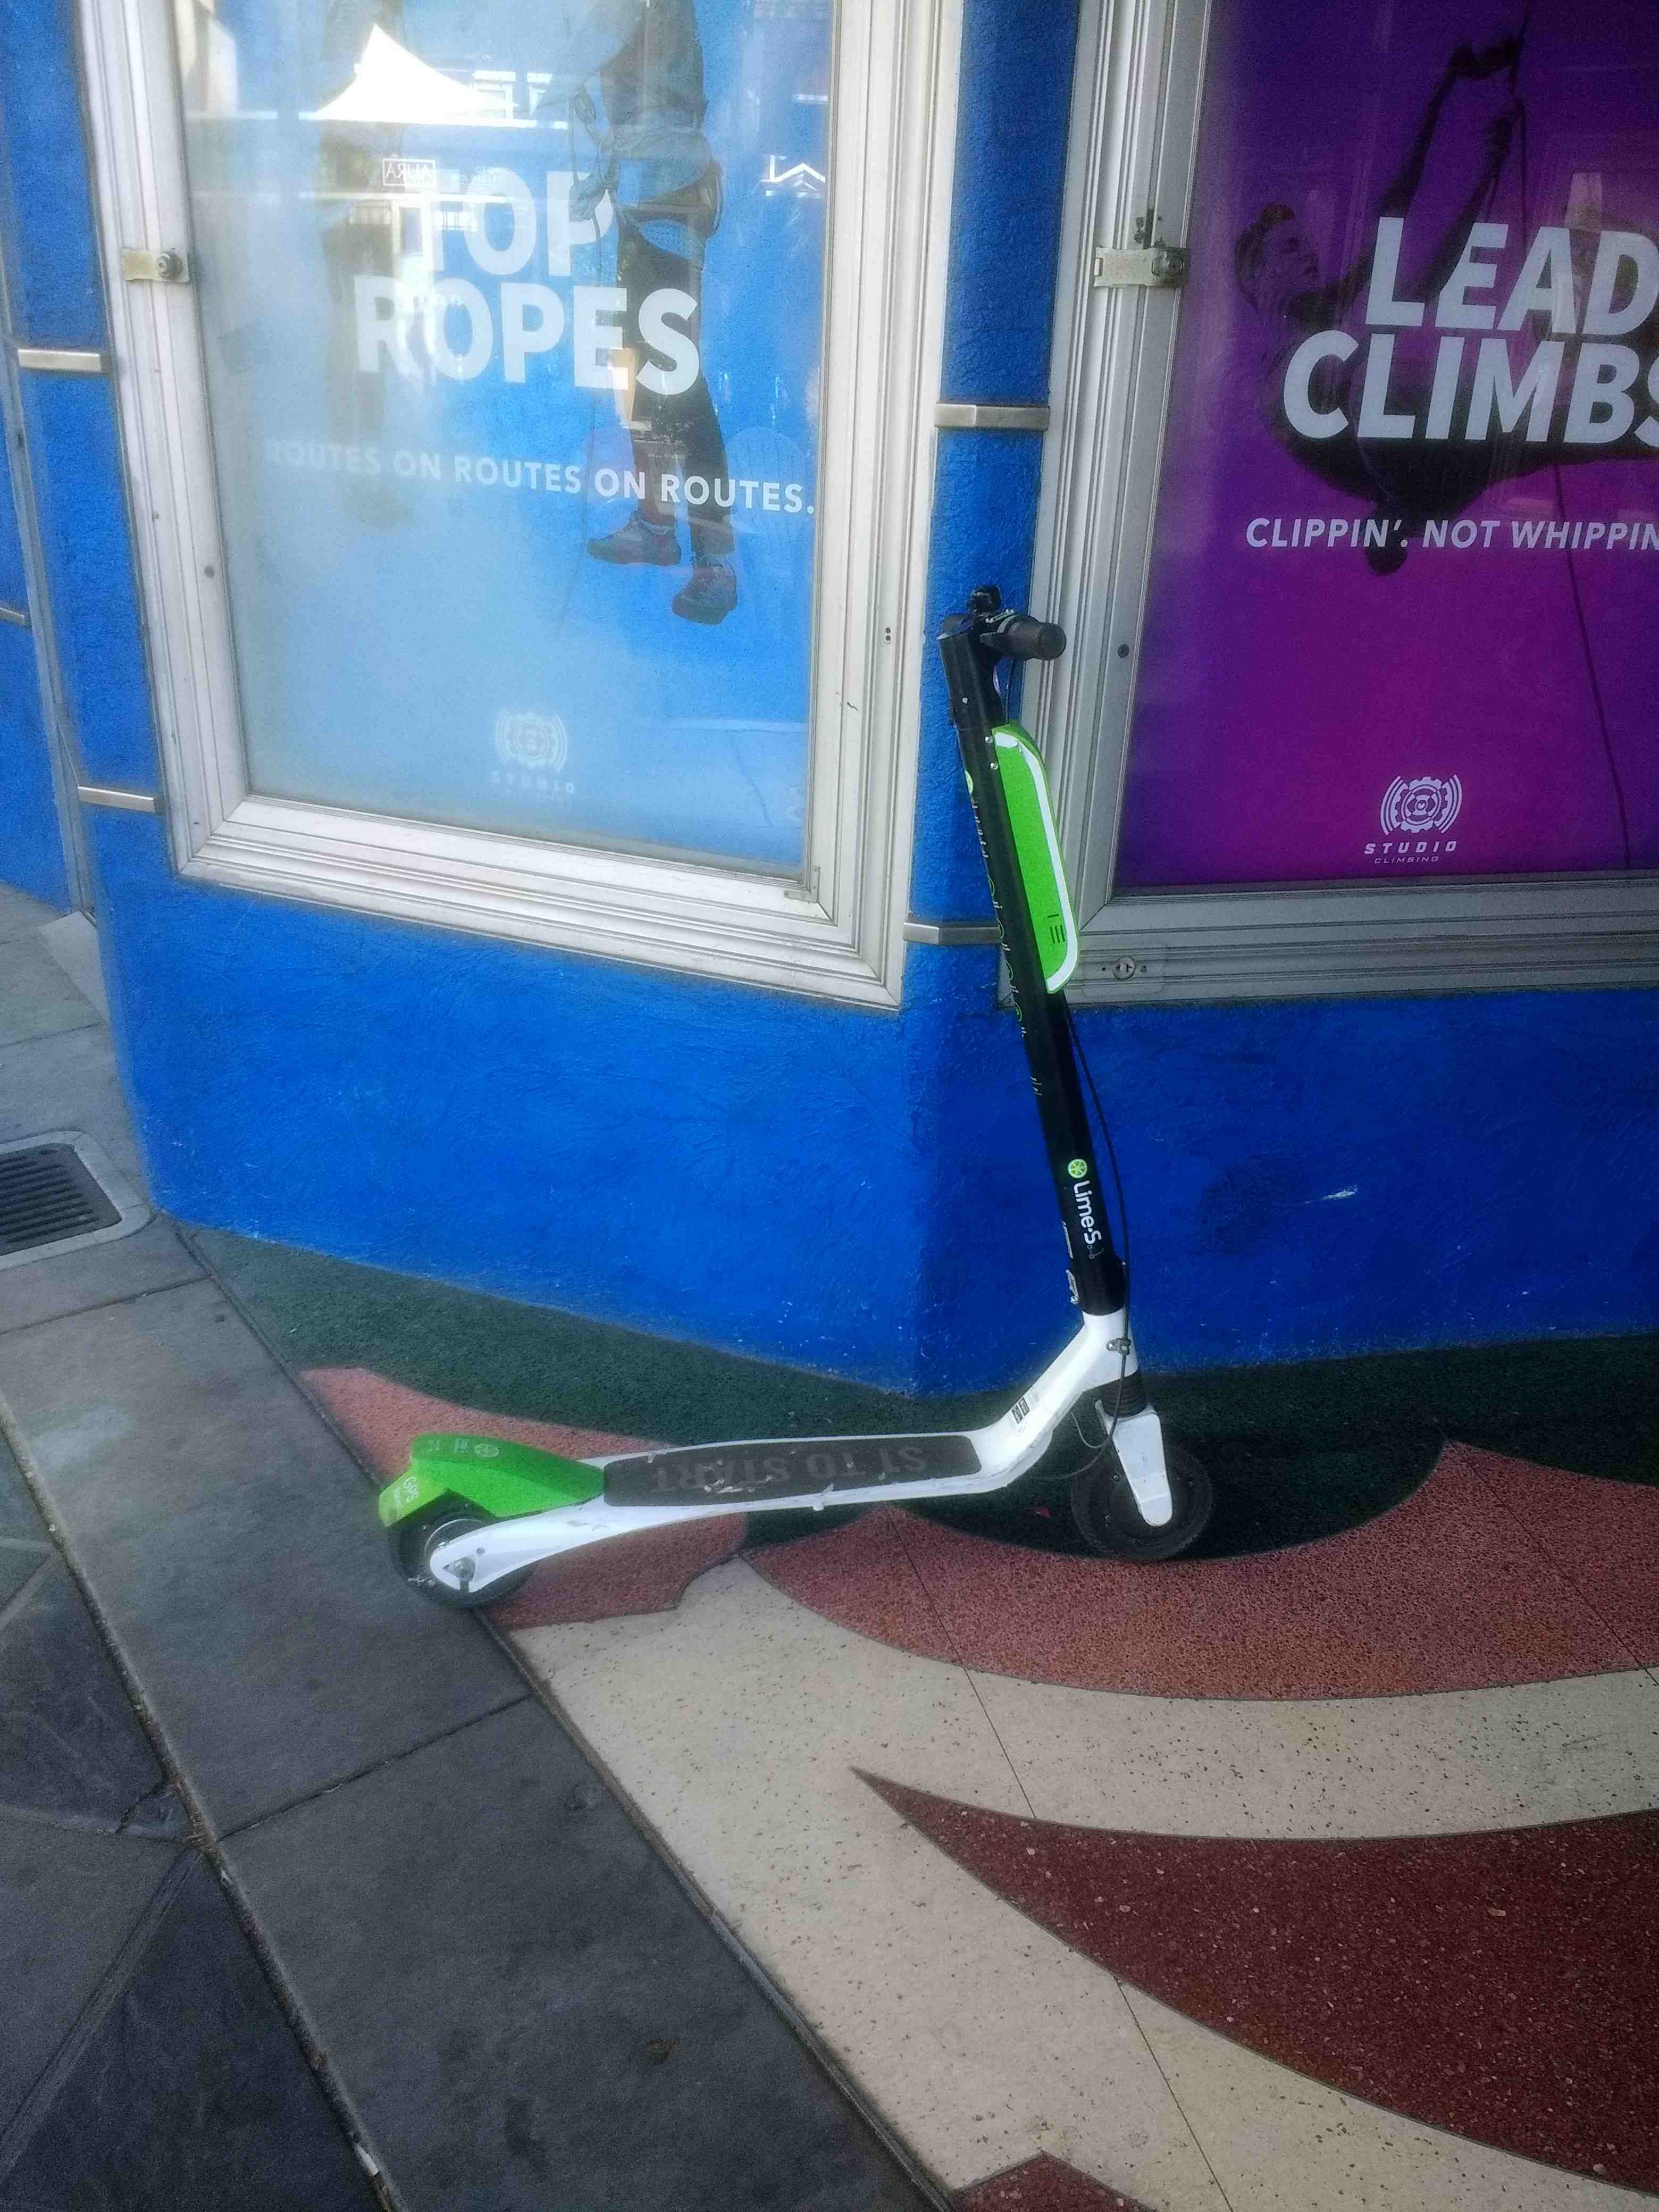scooter: (361, 533, 1243, 1662)
